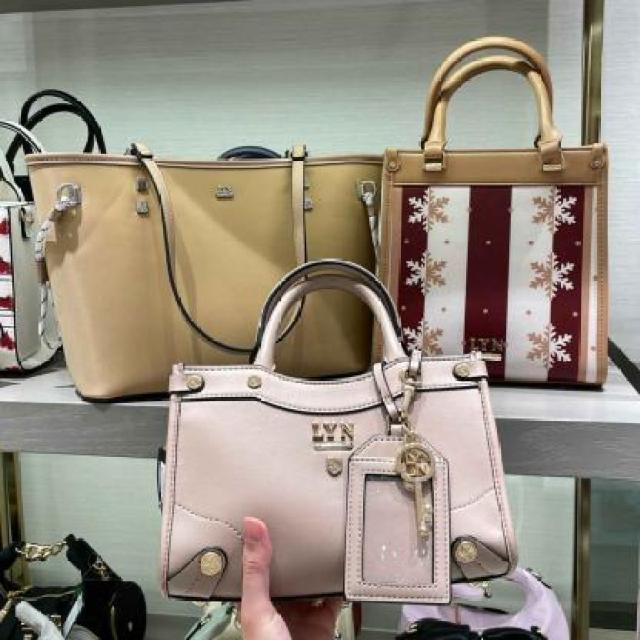Bag: (140, 256, 548, 629), (0, 92, 392, 409), (358, 26, 627, 400)
